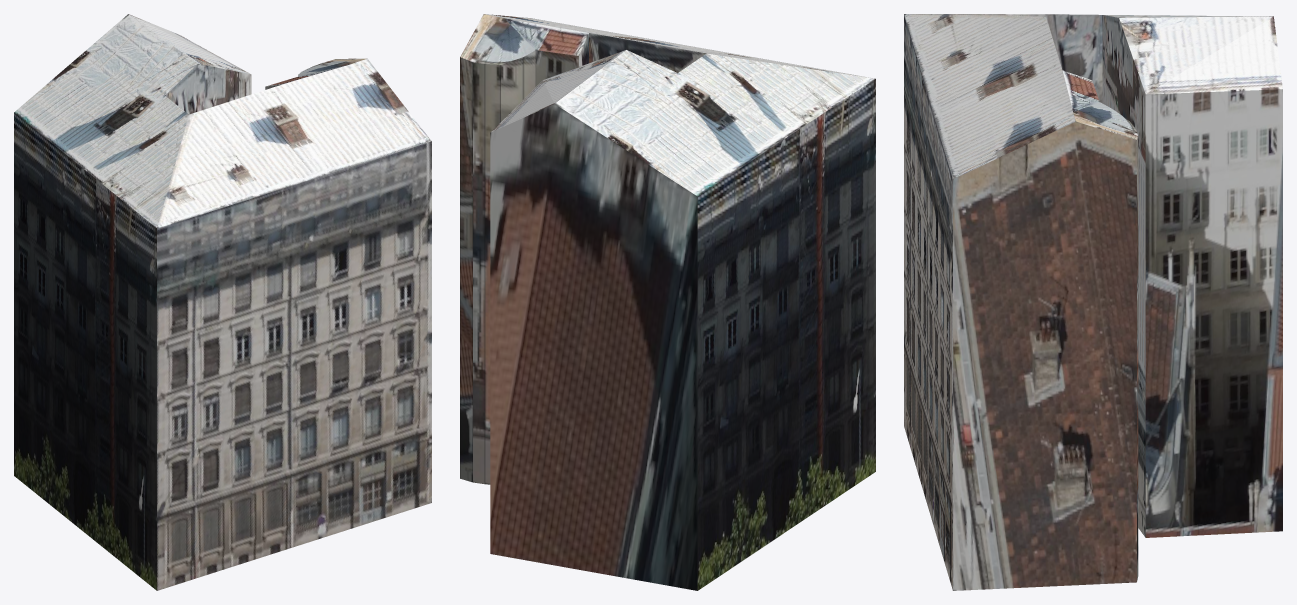
3 views of the same model, side by side, from view 1: azimuth 30°, elevation 25°; view 2: azimuth 150°, elevation 25°; view 3: azimuth 270°, elevation 25° (orthographic). The views are drawn at different scales.
Parts seen in each view (by area): view 1: Z_UP; view 2: Z_UP; view 3: Z_UP.
Part boxes in pixels (left/top/right/bottom): Z_UP: left=14, top=14, right=431, bottom=590; Z_UP: left=460, top=14, right=875, bottom=590; Z_UP: left=904, top=14, right=1282, bottom=590.
Size of the model in its own units: 21.55 by 29.57 by 20.97.
Materials: 2 (1 with a texture image).
